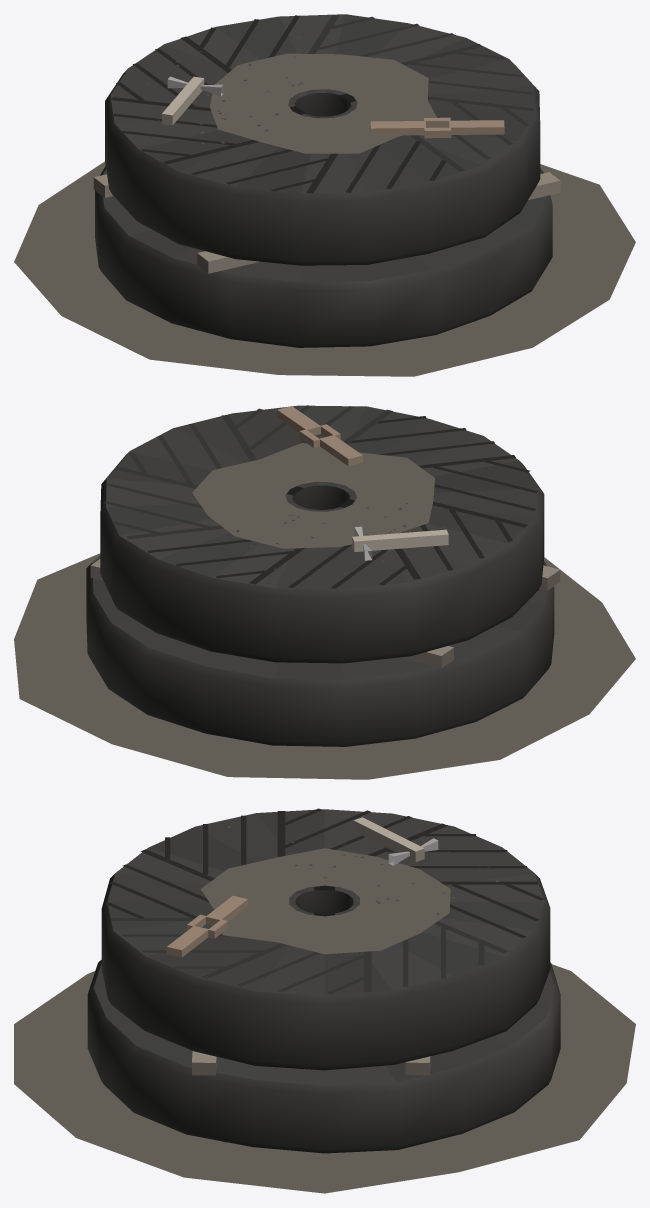
File: prop_millstone.glb
3 views of the same model, one above another, from view 1: azimuth 30°, elevation 25°; view 2: azimuth 150°, elevation 25°; view 3: azimuth 270°, elevation 25° (orthographic). The views are drawn at different scales.
Visible parts, largest first — view 1: Millstone, MillstoneSoft; view 2: Millstone, MillstoneSoft; view 3: Millstone, MillstoneSoft.
Boxes of the visible parts, x1,y1,x2,y2 form: Millstone: (14,14,635,376); MillstoneSoft: (95,63,552,347); Millstone: (14,405,635,779); MillstoneSoft: (86,452,554,746); Millstone: (14,808,635,1193); MillstoneSoft: (87,874,560,1153).
Bounding box in the file's own units: 1.86 × 0.531 × 1.8.
